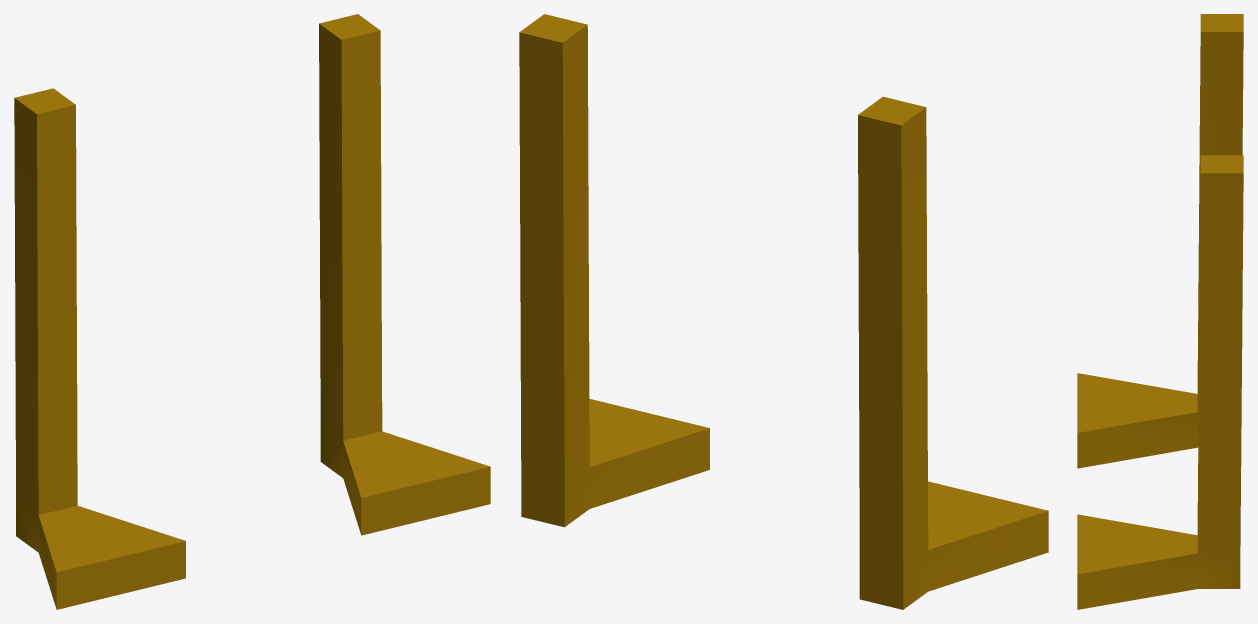
File: Pelicano_patas (1).fbx
3 views of the same model, side by side, from view 1: azimuth 30°, elevation 25°; view 2: azimuth 150°, elevation 25°; view 3: azimuth 270°, elevation 25° (orthographic). The views are drawn at different scales.
Visible parts, largest first — view 1: Pelicano_Patas; view 2: Pelicano_Patas; view 3: Pelicano_Patas.
Boxes of the visible parts, x1,y1,x2,y2 form: Pelicano_Patas: (14,14,490,609); Pelicano_Patas: (519,14,1048,609); Pelicano_Patas: (1077,14,1243,609).
Size of the model in its own units: 2.65 by 2.55 by 0.9235.
